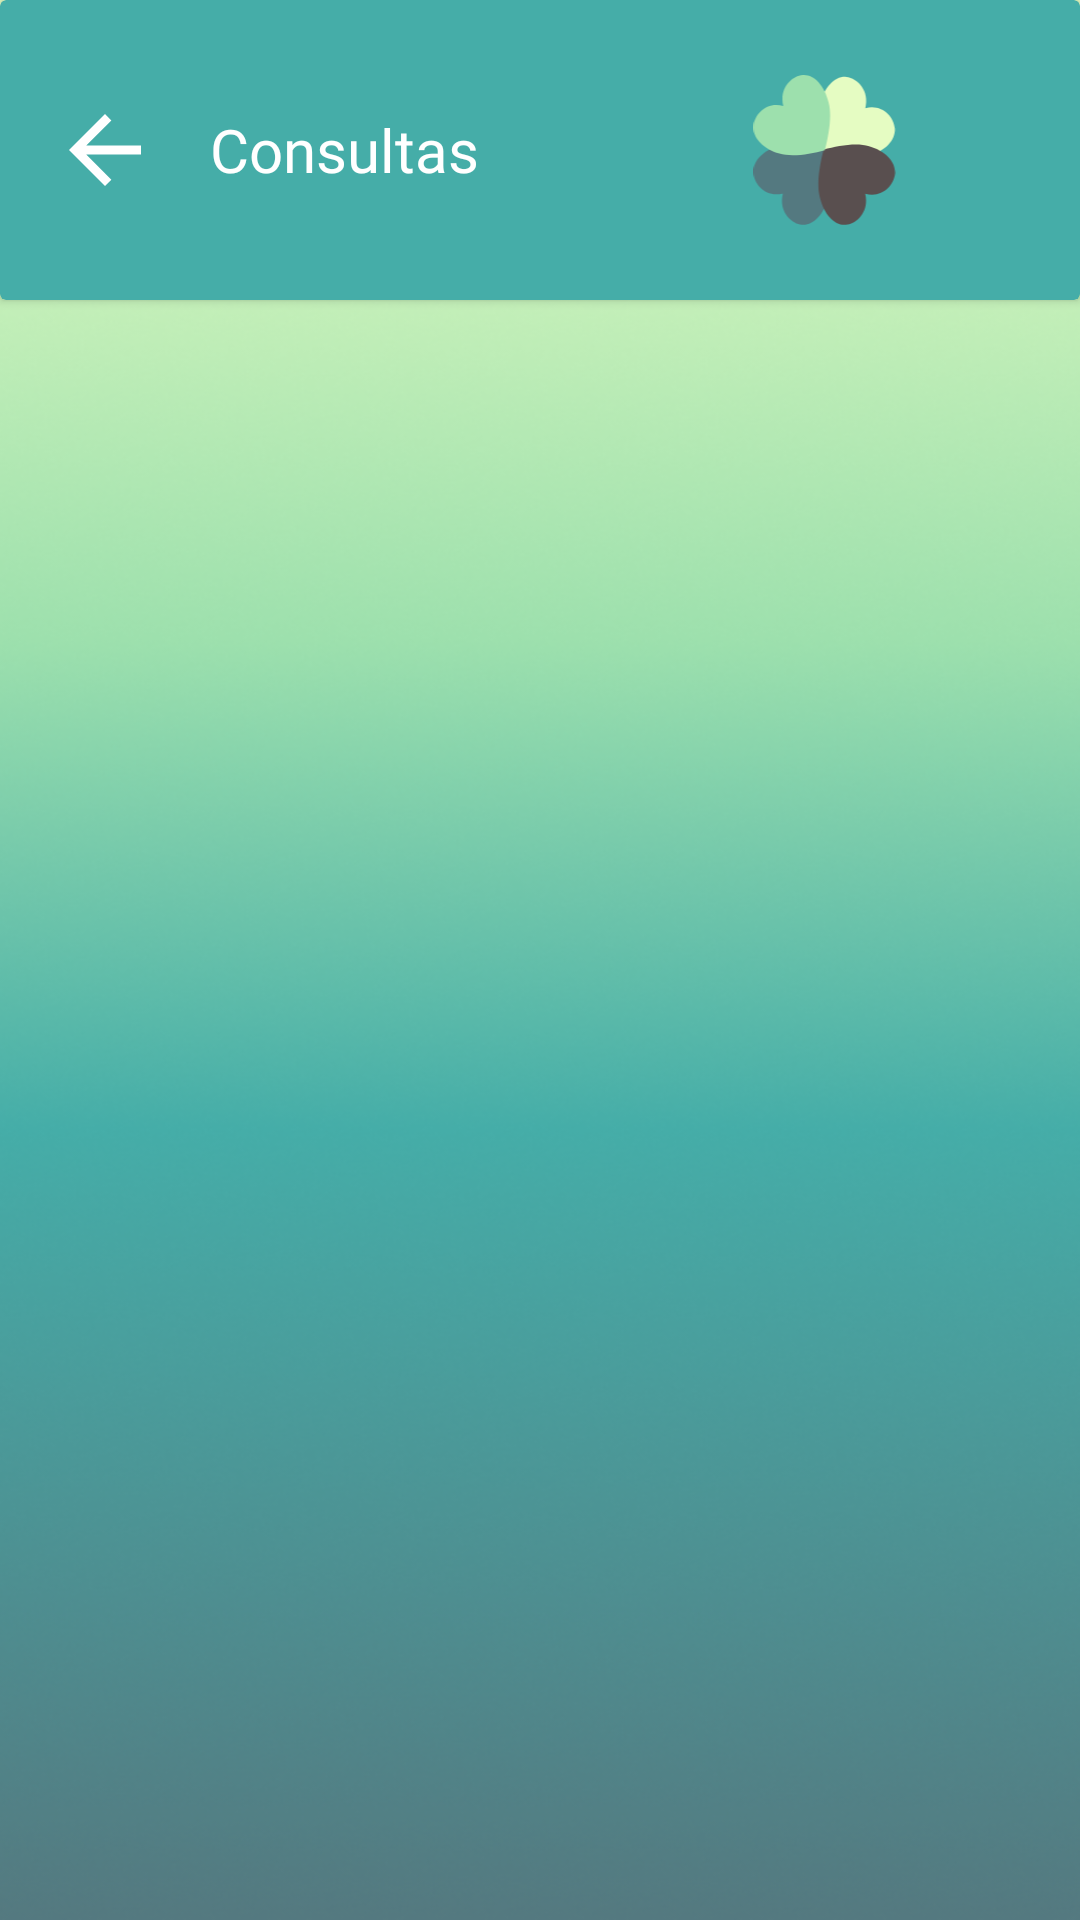

Locate icon controls on the screen. Image size 1080 x 1920, boxes as [x1,y1,x2,y2].
arrow back: [69,114,141,186]
